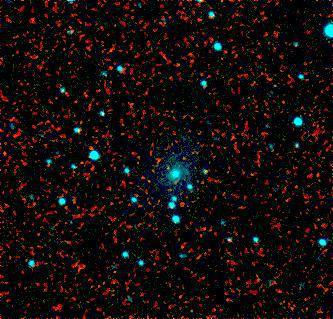star: (153, 153, 183, 183)
